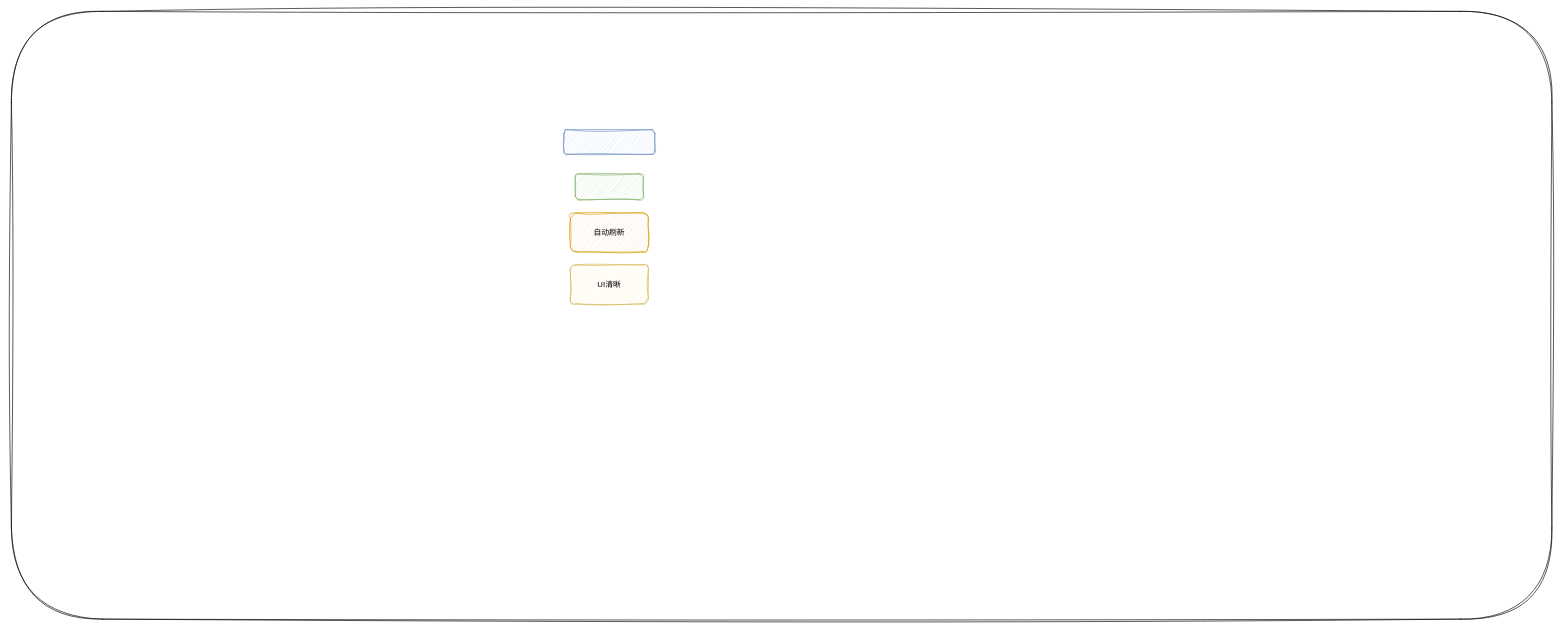
This 1563x631 diagram has some shape labels left out. Each missing label, with the centre of its shape:
"键盘控制" goes at pixel 609 186.
"随机生成迷宫" goes at pixel 609 141.
